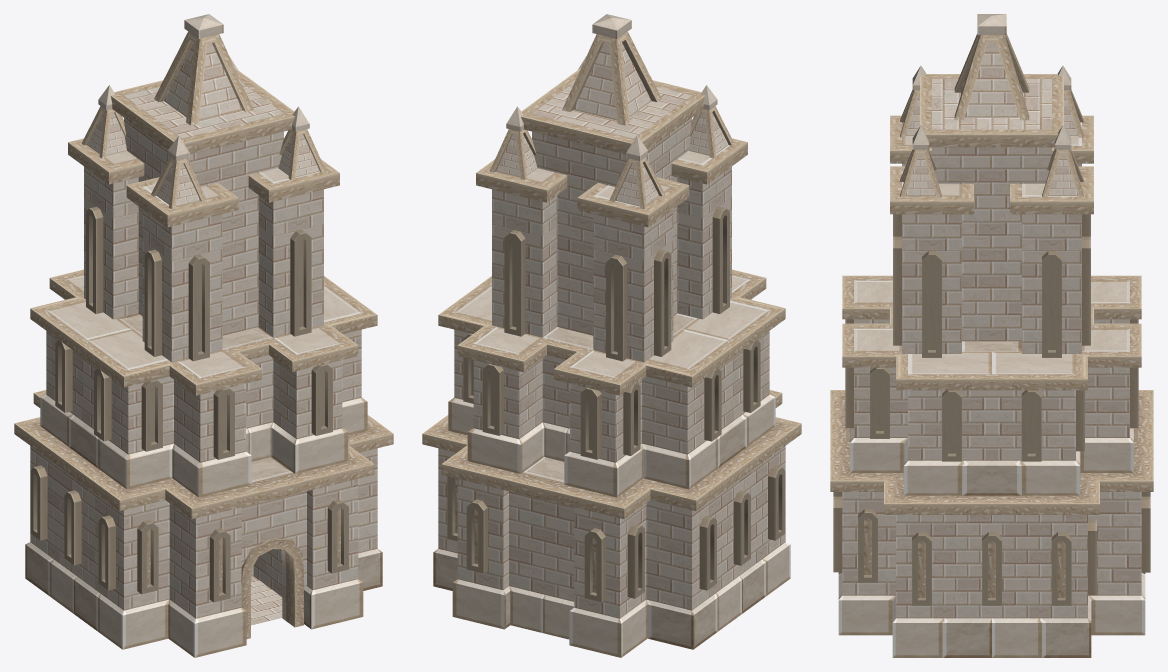
The model's file is Tower.fbx.
3 views of the same model, side by side, from view 1: azimuth 30°, elevation 25°; view 2: azimuth 150°, elevation 25°; view 3: azimuth 270°, elevation 25° (orthographic). The views are drawn at different scales.
Visible parts, largest first — view 1: tower; view 2: tower; view 3: tower.
Boxes of the visible parts, box(x1,y1,x2,y2) form: tower: box(14, 14, 393, 657); tower: box(422, 14, 801, 657); tower: box(830, 14, 1153, 657).
Bounding box in the file's own units: 5.4 × 10.63 × 5.4.
